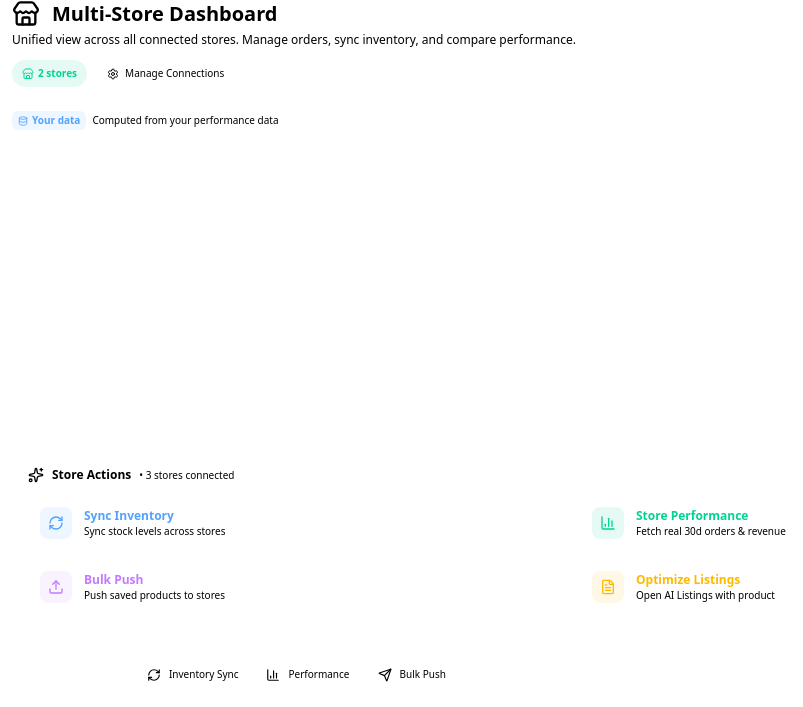
Scenario: MultiStorePage › performance tab shows empty state when no performance data
Click the button "Performance" at (308, 674), box [254, 659, 362, 690]
(page scrolled)
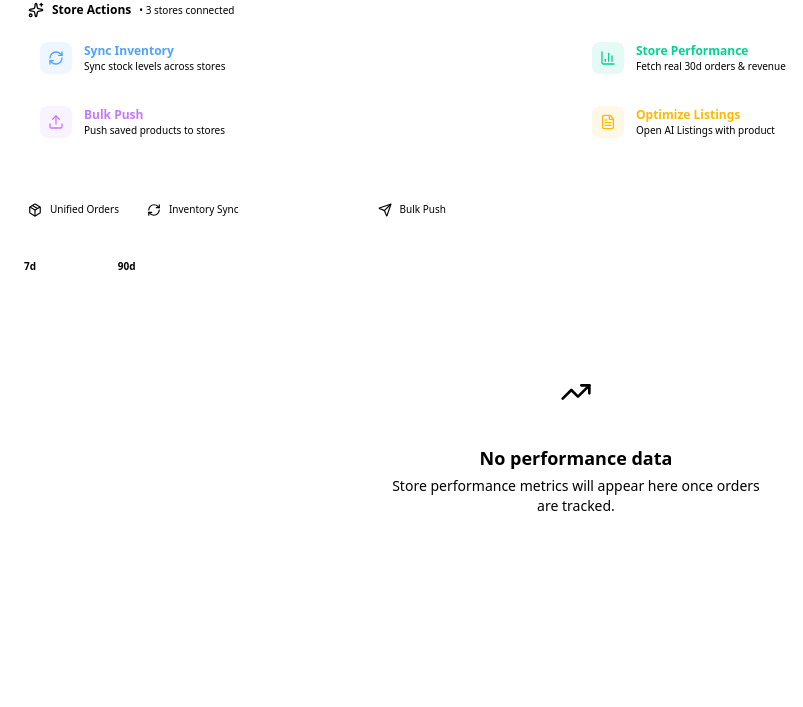
Now the heading "No performance data" is shown, box [480, 444, 672, 472]
